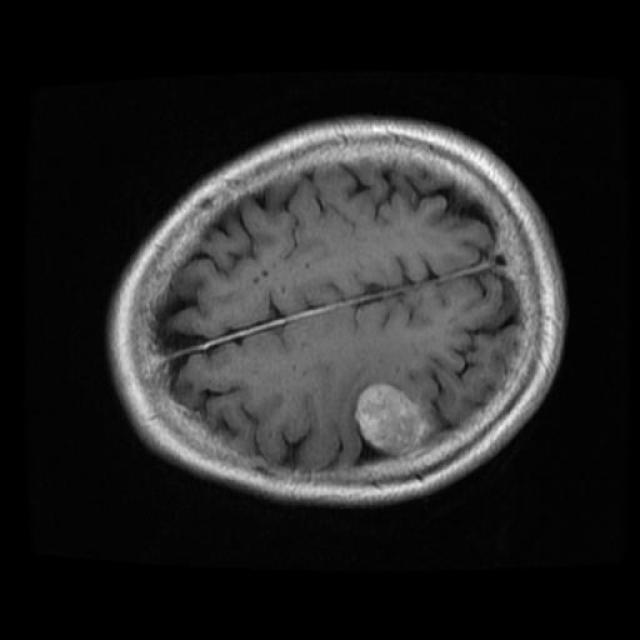Meningioma: (354, 383, 436, 457)
